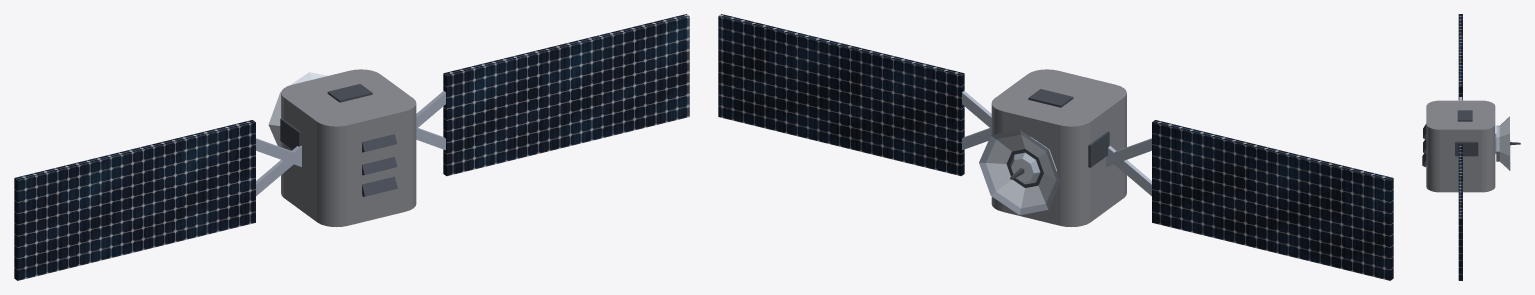
File: satellite.glb
The picture shows the model from 3 angles, left to right: view 1: azimuth 30°, elevation 25°; view 2: azimuth 150°, elevation 25°; view 3: azimuth 270°, elevation 25°; orthographic projection. The views are drawn at different scales.
Parts seen in each view (by area): view 1: mergedBlocks(Clone); view 2: mergedBlocks(Clone); view 3: mergedBlocks(Clone).
Boxes of the visible parts, x1,y1,x2,y2 form: mergedBlocks(Clone): [14, 14, 689, 280]; mergedBlocks(Clone): [718, 14, 1393, 280]; mergedBlocks(Clone): [1422, 14, 1520, 280].
Size of the model in its own units: 6.99 by 1.02 by 1.42.
5 materials, 1 textured.
